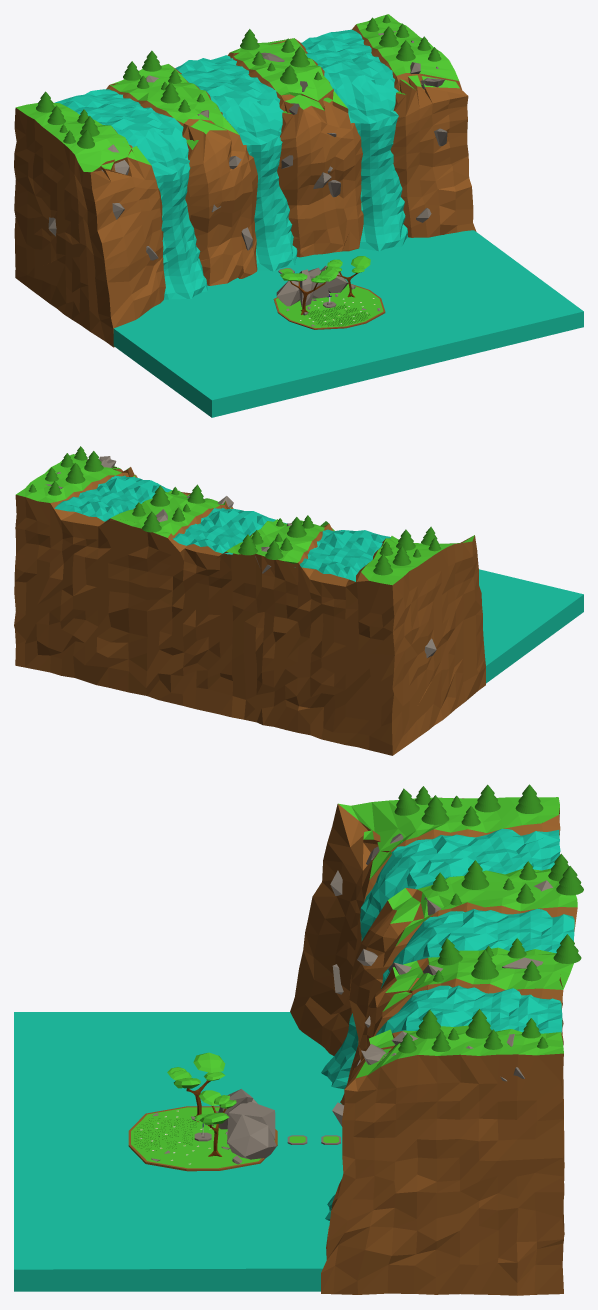
Rendered from waterfall.glb.
3 views of the same model, one above another, from view 1: azimuth 30°, elevation 25°; view 2: azimuth 150°, elevation 25°; view 3: azimuth 270°, elevation 25° (orthographic). The views are drawn at different scales.
Visible parts, largest first — view 1: mountain, Plane.226, water.001, water, water.002, Cube.023; view 2: mountain, Plane.226, water.002, water.001, water; view 3: mountain, Plane.226, water.002, water, water.001, Cube.023, Icosphere.014, Cube.035, Icosphere.013, Cube.034.
Boxes of the visible parts, left/top/right/bottom form: mountain: left=14, top=14, right=476, bottom=347; Plane.226: left=113, top=230, right=583, bottom=417; water.001: left=301, top=29, right=407, bottom=251; water: left=175, top=55, right=297, bottom=271; water.002: left=54, top=89, right=207, bottom=299; Cube.023: left=273, top=283, right=385, bottom=329; mountain: left=14, top=454, right=485, bottom=755; Plane.226: left=283, top=522, right=583, bottom=683; water.002: left=295, top=529, right=390, bottom=581; water.001: left=54, top=475, right=171, bottom=521; water: left=172, top=508, right=275, bottom=554; mountain: left=290, top=797, right=577, bottom=1295; Plane.226: left=14, top=1012, right=344, bottom=1291; water.002: left=321, top=828, right=560, bottom=1089; water: left=381, top=908, right=574, bottom=988; water.001: left=325, top=985, right=562, bottom=1220; Cube.023: left=128, top=1106, right=277, bottom=1171; Icosphere.014: left=227, top=1114, right=276, bottom=1159; Cube.035: left=167, top=1052, right=225, bottom=1088; Icosphere.013: left=227, top=1102, right=275, bottom=1144; Cube.034: left=194, top=1090, right=236, bottom=1124.
Bounding box in the file's own units: 193 × 91.29 × 176.
